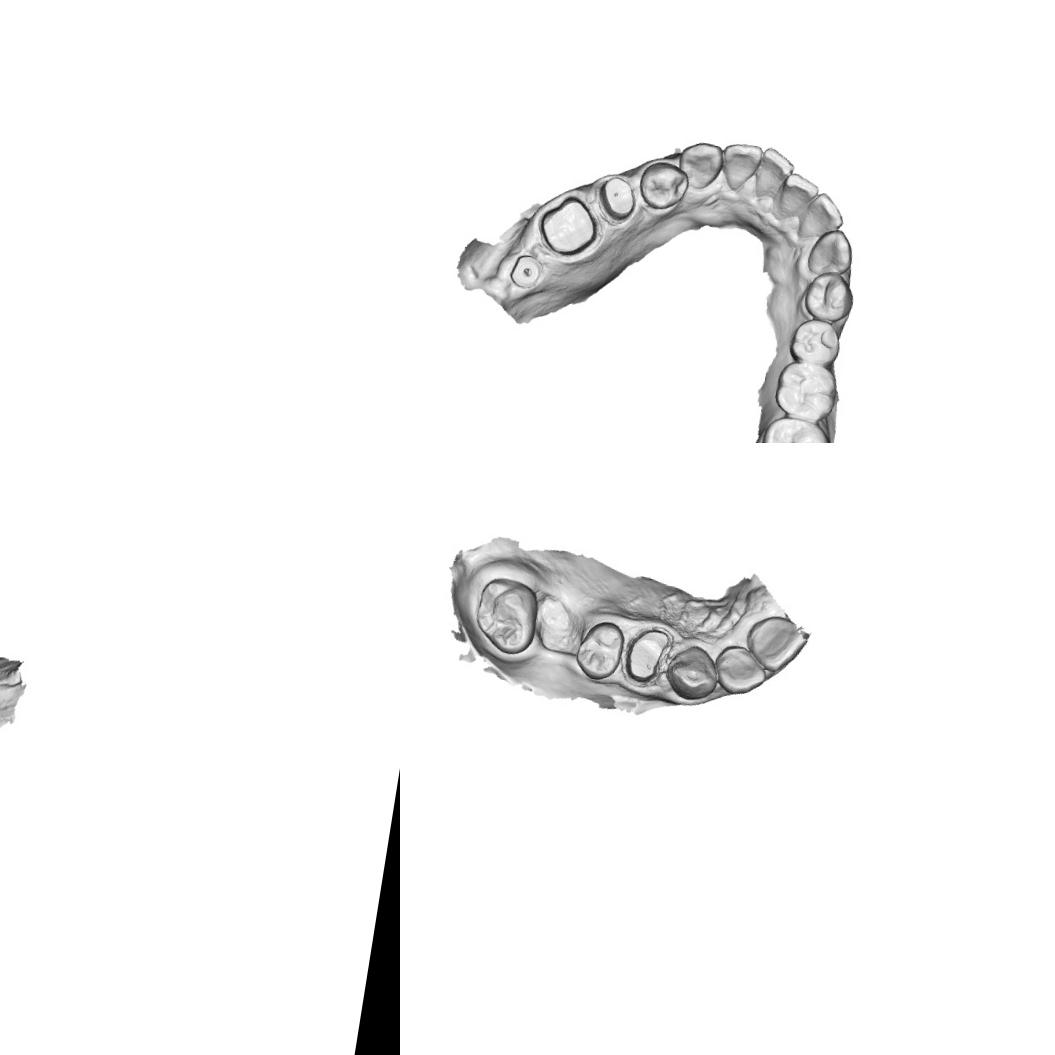canine: (662, 638, 723, 704), (804, 224, 858, 280), (674, 136, 726, 194)
crown: (532, 188, 608, 264), (617, 622, 676, 690), (591, 171, 641, 227)
implant: (506, 250, 546, 292)
incisor: (740, 611, 810, 678), (710, 642, 772, 699), (716, 139, 766, 196), (797, 189, 848, 243), (754, 144, 798, 200), (778, 170, 822, 220)
molar: (470, 574, 545, 660), (770, 358, 840, 422), (753, 412, 838, 443)
premolar: (572, 616, 628, 684), (800, 266, 858, 326), (634, 158, 692, 215), (787, 316, 844, 368)
